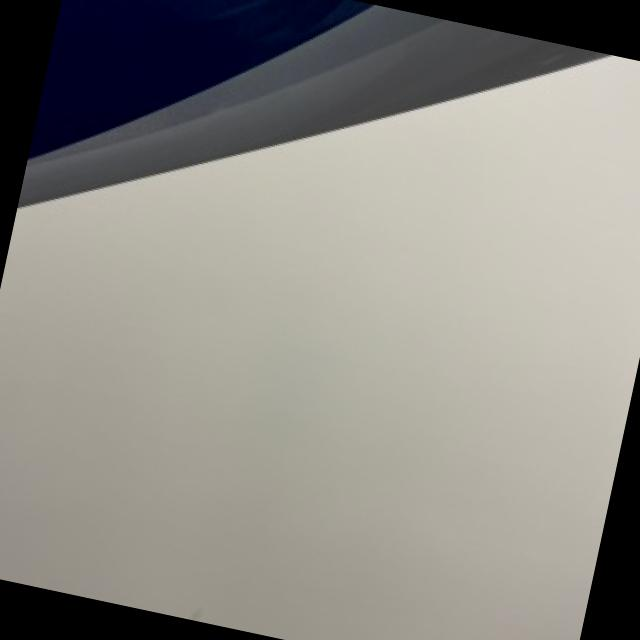healthy: (0, 56, 640, 640), (18, 4, 604, 201)
